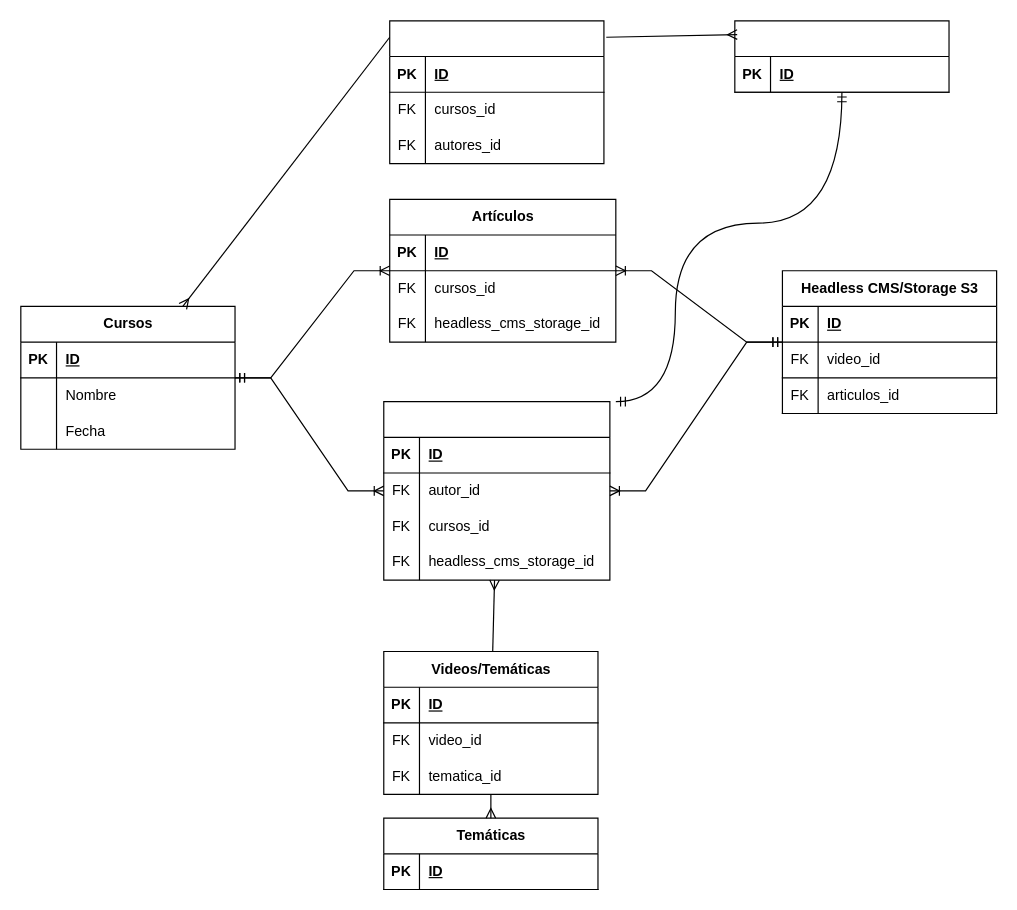
The diagram is 1017 pixels wide and 910 high, and some of its shapes have lost their labels. Each missing label, with the box of its shape:
Autores: (734, 20, 949, 92)
Cursos/Autores: (389, 20, 604, 164)
Videos: (383, 400, 610, 580)
